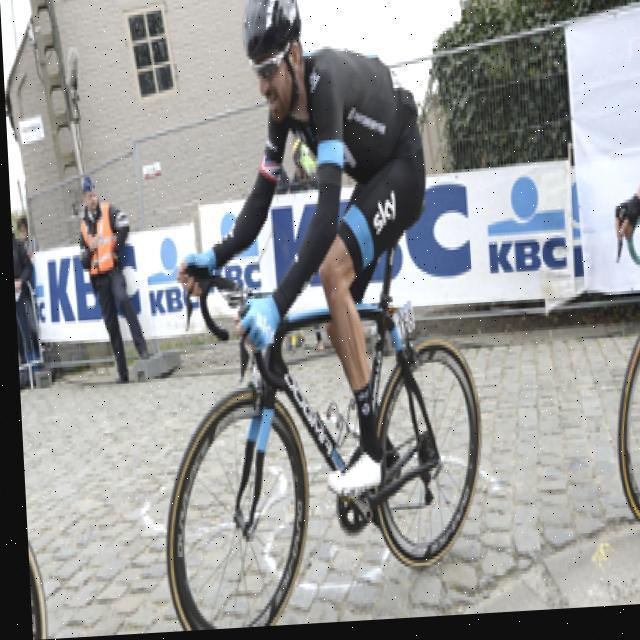Helmet: (230, 0, 314, 132)
